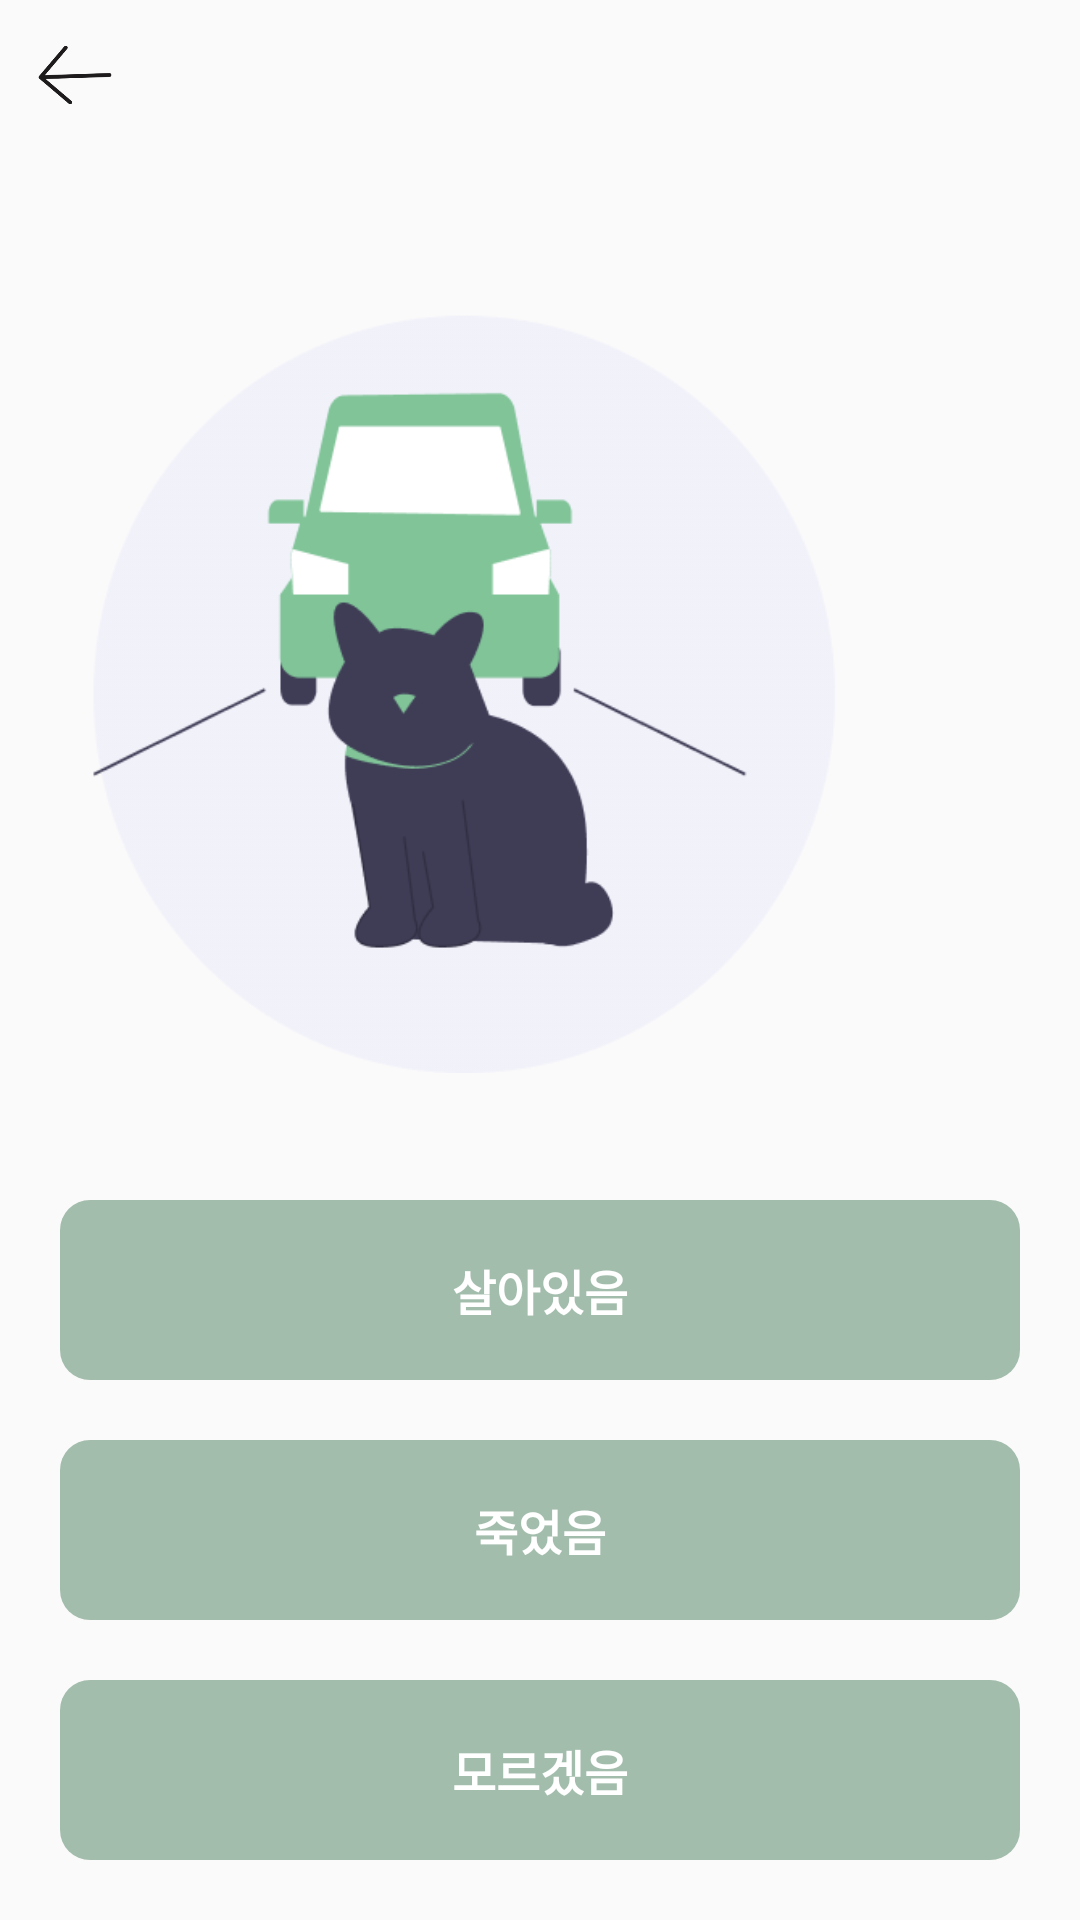

Point at icon controls on the screen. Image size 1080x1920, points as [x,y].
back arrow: [75,75]
